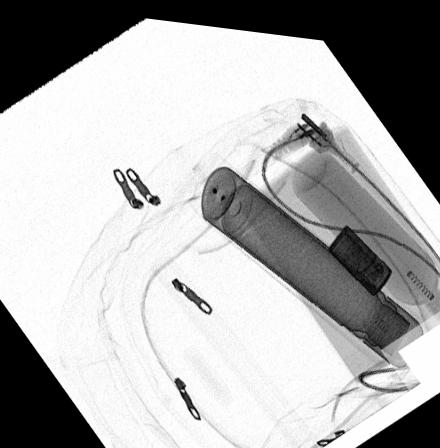Lighter: (328, 214, 391, 286)
